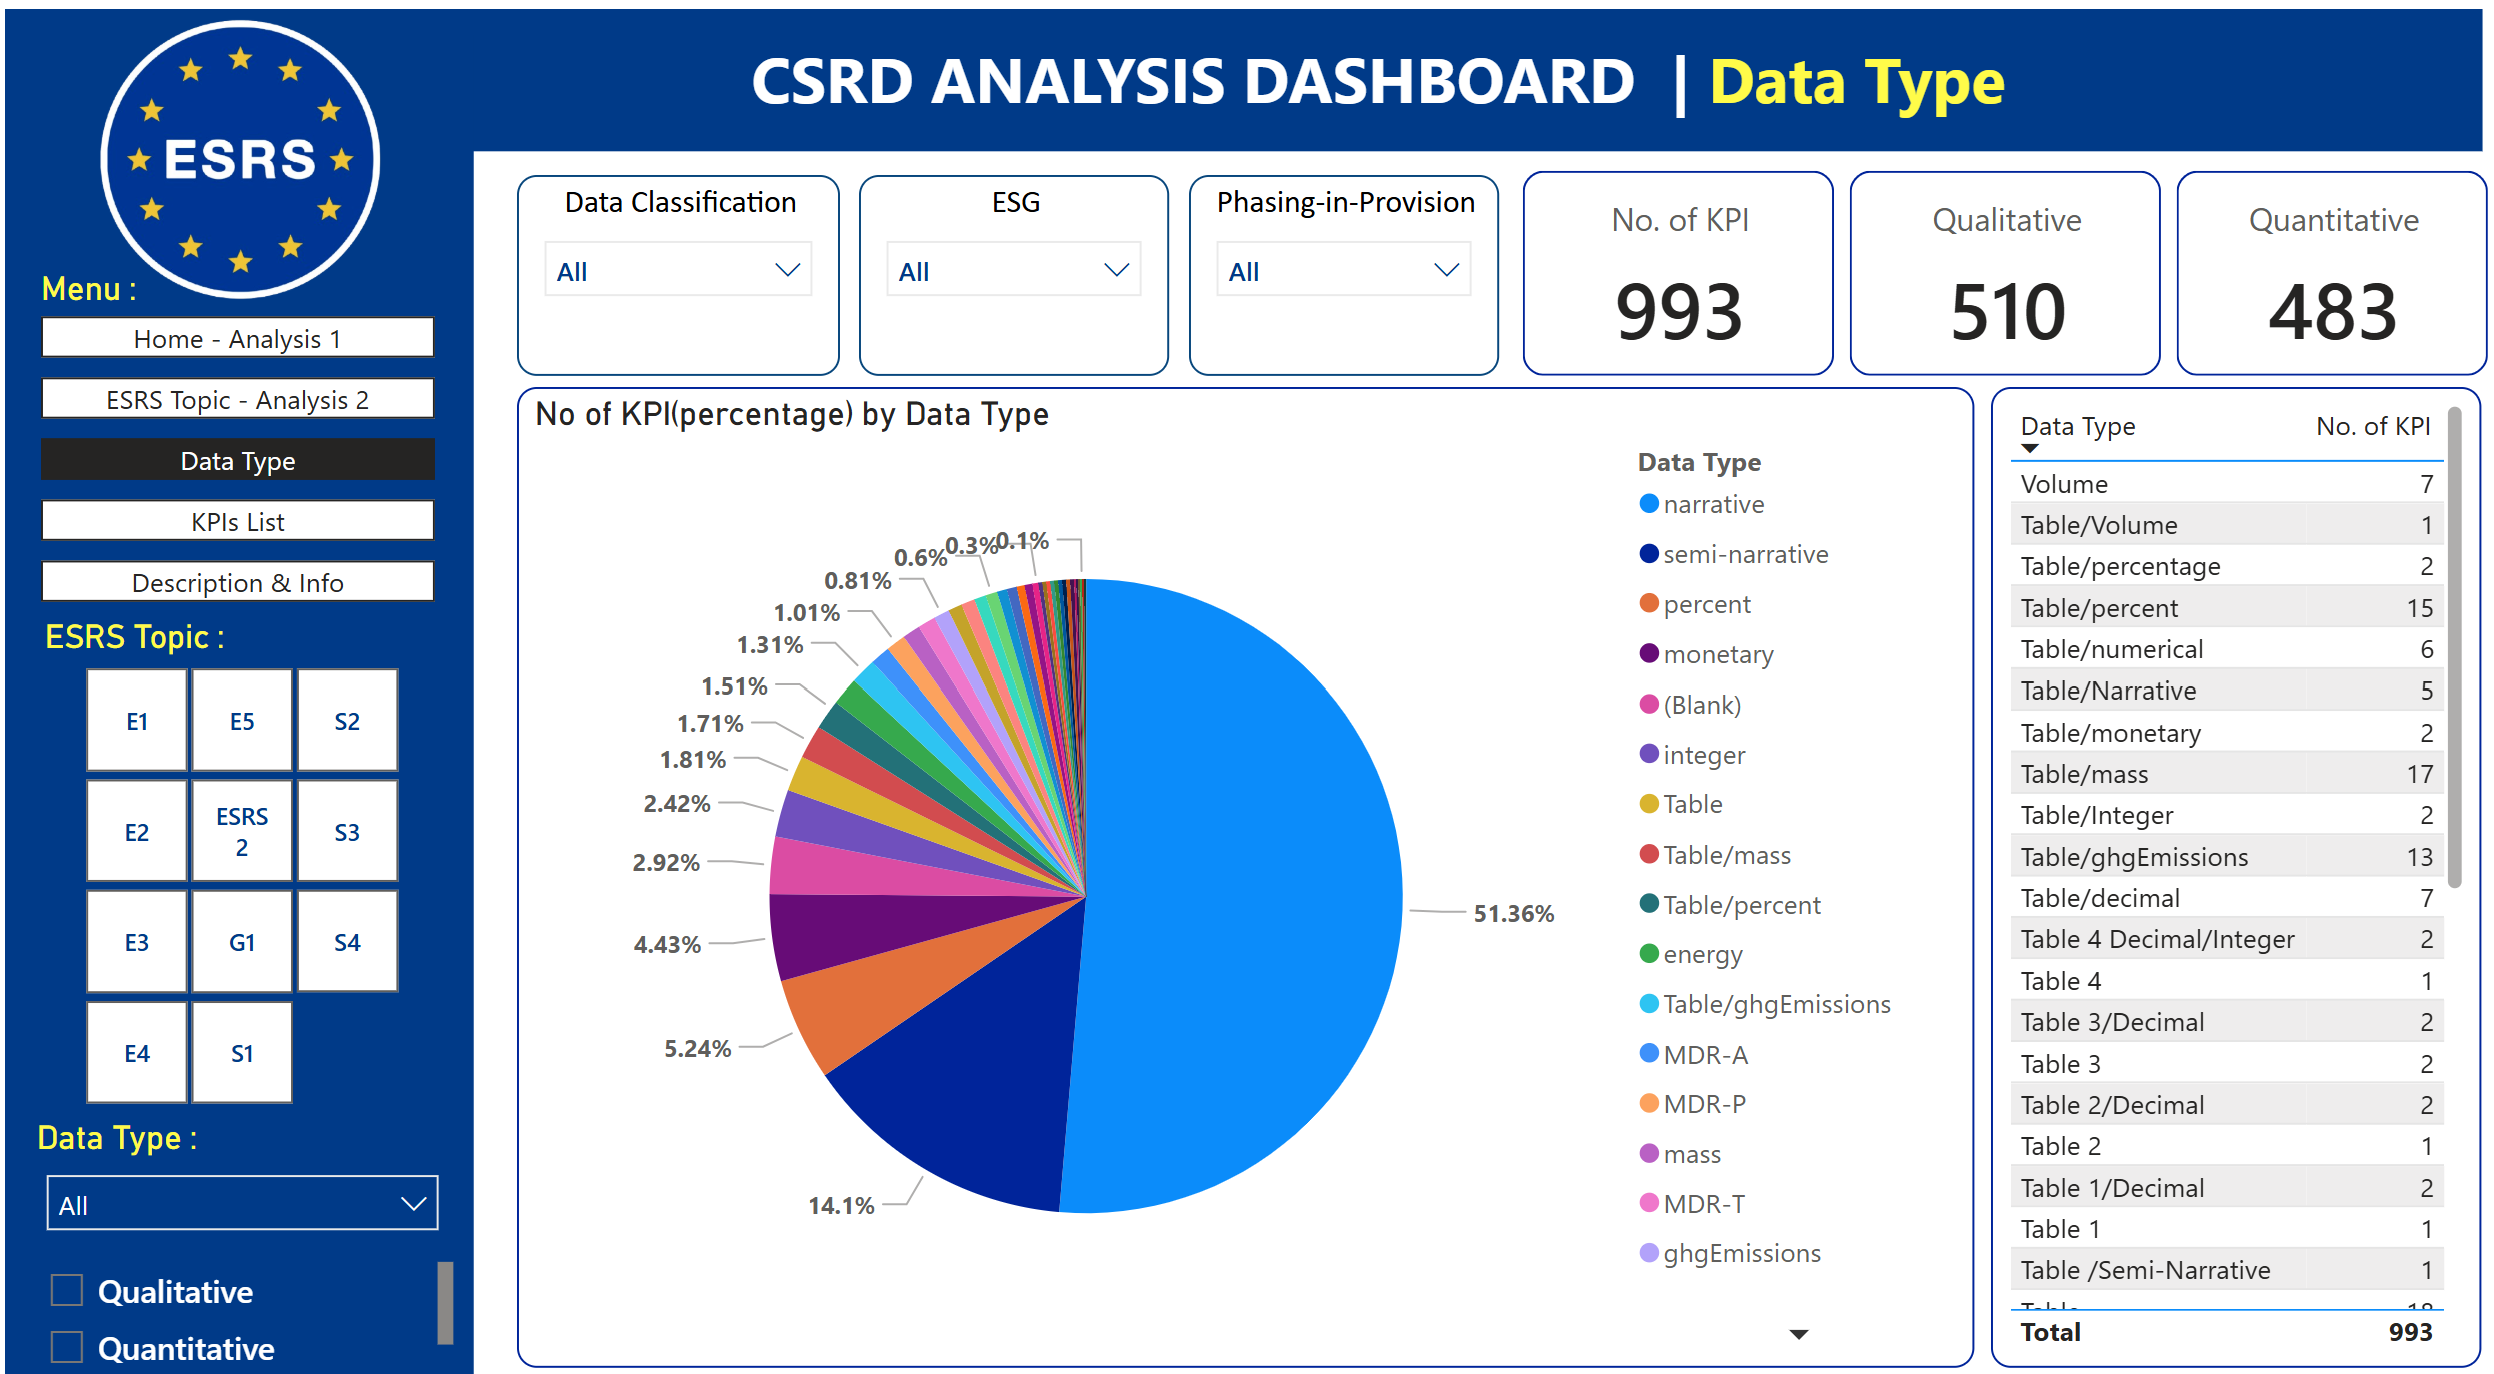

This screenshot's page, from the dashboard's own definition file:
{"tool":"powerbi","page":{"name":"Data Type","canvas":[1280,720],"ordinal":2},"visuals":[{"type":"shape","box":[12.3,19.7,1258,72.3],"z":0},{"type":"shape","box":[12.3,32.8,238.1,683.2],"z":1000},{"type":"textbox","box":[353.9,27.9,710.3,55],"z":2000},{"type":"cardVisual","fields":{"Data":["CountNonNull(All topic ESRS (2).Name)","All topic ESRS (2).Qualitative","All topic ESRS (2).Quantitative"]},"box":[777.6,96.9,500.9,114.1],"z":3000},{"type":"slicer","title":"Data Classification","fields":{"Values":["All topic ESRS (2).Data Classification"]},"box":[271.8,103.5,164.2,101.8],"z":4000},{"type":"slicer","title":"ESG","fields":{"Values":["All topic ESRS (2).ESG"]},"box":[445.9,103.5,157.7,101.8],"z":5000},{"type":"slicer","title":"Phasing-in-Provision","fields":{"Values":["All topic ESRS (2).Appendix C - ESRS 1DPs subject to phasing-in provisions applicable to undertaking with less than 750 "]},"box":[613.4,103.5,157.7,101.8],"z":6000},{"type":"pieChart","title":"No of KPI(percentage) by Data Type","fields":{"Y":["CountNonNull(All topic ESRS (2).Name)"],"Category":["All topic ESRS (2).Data Type"]},"box":[271.7,210.8,740,497.5],"z":7000},{"type":"tableEx","title":"No of KPI(percentage) by Data Type","fields":{"Values":["All topic ESRS (2).Data Type","CountNonNull(All topic ESRS (2).Name)"]},"box":[1020.8,210.8,249.2,497.5],"z":8000},{"type":"slicer","title":"ESRS Topic :","fields":{"Values":["All topic ESRS (2).ESRS"]},"box":[27.5,328.3,208.3,253.3],"z":9000},{"type":"slicer","title":"Data Type :","fields":{"Values":["All topic ESRS (2).Data Type"]},"box":[23.3,581.7,219.2,61.7],"z":10000},{"type":"slicer","fields":{"Values":["All topic ESRS (2).Qualitative / Quantitative"]},"box":[22.5,650,222.5,64.2],"z":11000},{"type":"image","box":[50,13.3,163.3,166.7],"z":12000},{"type":"pageNavigator","title":"Menu :","box":[30.8,151.7,200.8,171.7],"z":13000}]}

Visuals, with their boxes in screenshot pixels (x1, y1, x2, y2), scaled from the page's 1280x720 canvas onto the 2494x1374 screenshot:
shape: [left=24, top=38, right=2475, bottom=176]
shape: [left=24, top=63, right=488, bottom=1366]
textbox: [left=690, top=53, right=2074, bottom=158]
cardVisual - CountNonNull(All topic ESRS (2).Name) x All topic ESRS (2).Qualitative: [left=1515, top=185, right=2491, bottom=403]
"Data Classification" slicer: [left=530, top=198, right=850, bottom=392]
"ESG" slicer: [left=869, top=198, right=1176, bottom=392]
"Phasing-in-Provision" slicer: [left=1195, top=198, right=1502, bottom=392]
"No of KPI(percentage) by Data Type" pieChart: [left=529, top=402, right=1971, bottom=1352]
"No of KPI(percentage) by Data Type" tableEx: [left=1989, top=402, right=2475, bottom=1352]
"ESRS Topic :" slicer: [left=54, top=627, right=459, bottom=1110]
"Data Type :" slicer: [left=45, top=1110, right=472, bottom=1228]
slicer - All topic ESRS (2).Qualitative / Quantitative: [left=44, top=1240, right=477, bottom=1363]
image: [left=97, top=25, right=416, bottom=344]
"Menu :" pageNavigator: [left=60, top=289, right=451, bottom=617]
